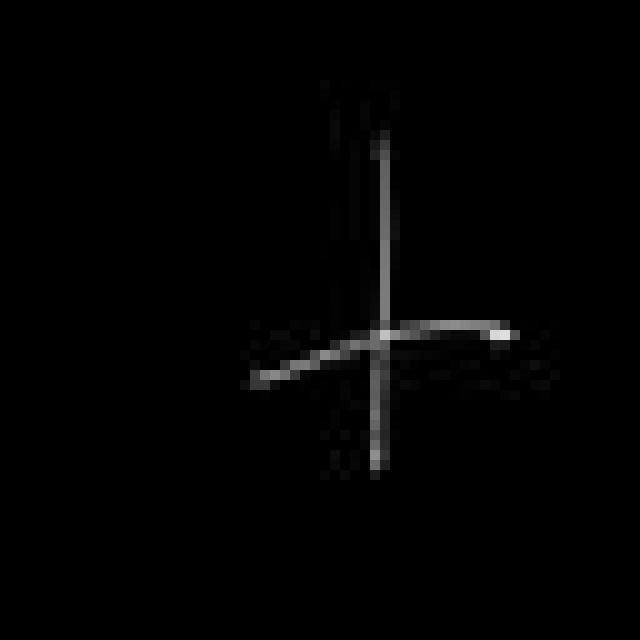10 -ten-: (238, 125, 526, 480)
